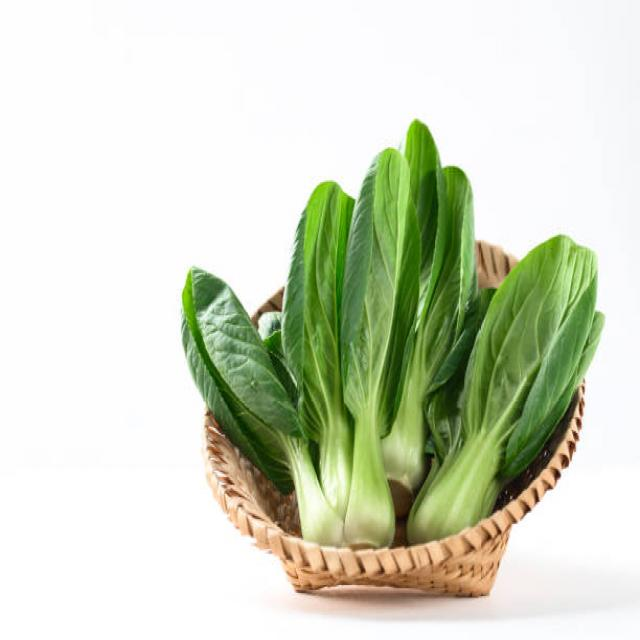Bok Choy: (300, 260, 379, 562), (476, 267, 560, 547), (382, 162, 448, 476)
